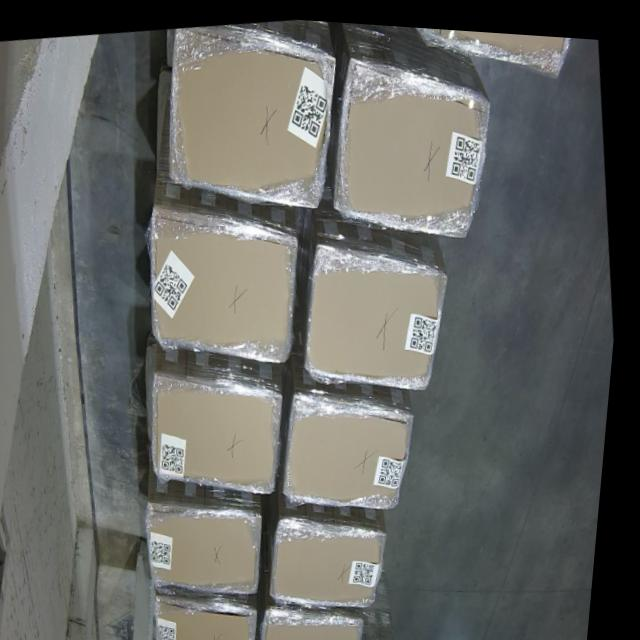pallet: (171, 26, 335, 204), (340, 55, 493, 229), (312, 237, 450, 384), (154, 217, 300, 355), (162, 374, 290, 490), (294, 394, 420, 500), (283, 512, 395, 607), (155, 502, 268, 586), (165, 592, 267, 640), (274, 604, 373, 640)
